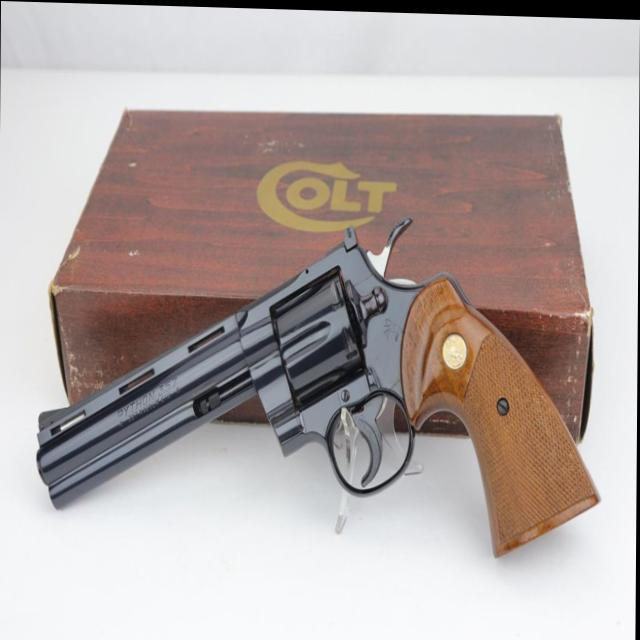handgun: (36, 208, 603, 580)
